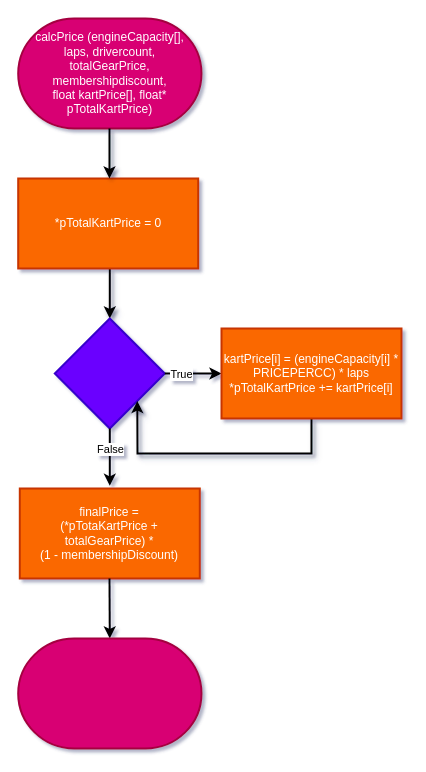
Some shapes in this 426 by 772 pixel diagram are drawn without their labels. Each missing label, with the centre of its shape:
"i = 0, i < driverCount, i++" goes at point (109, 373).
"return finalPrice" goes at point (109, 693).
